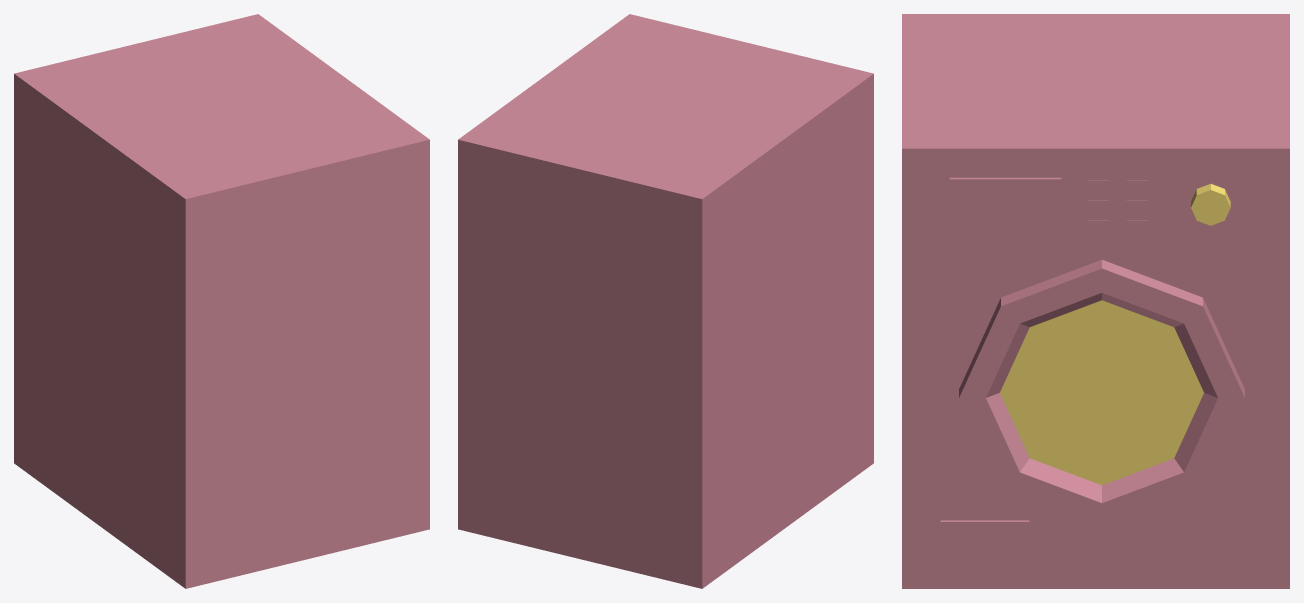
File: Laundry_washer.fbx
3 renders of one model, left to right at view 1: azimuth 30°, elevation 25°; view 2: azimuth 150°, elevation 25°; view 3: azimuth 270°, elevation 25°, orthographic. The views are drawn at different scales.
Visible parts, largest first — view 1: Laundry_washer; view 2: Laundry_washer; view 3: Laundry_washer.
Boxes of the visible parts, x1=… form: Laundry_washer: x1=14, y1=14, x2=429, y2=588; Laundry_washer: x1=458, y1=14, x2=873, y2=588; Laundry_washer: x1=902, y1=14, x2=1289, y2=588.
Bounding box in the file's own units: 97.99 × 140 × 112.
